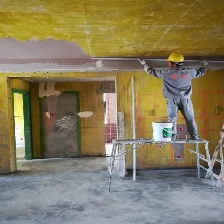helmet: (165, 52, 187, 68)
person: (152, 48, 212, 145)
